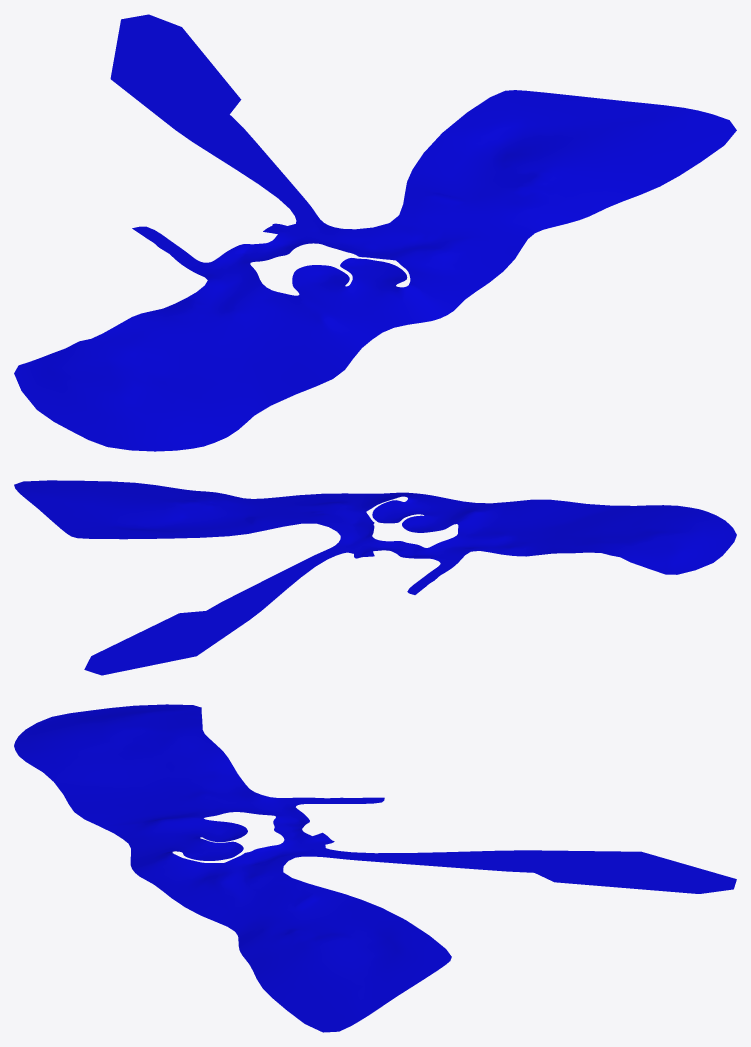
The picture shows the model from 3 angles, top to bottom: view 1: azimuth 30°, elevation 25°; view 2: azimuth 150°, elevation 25°; view 3: azimuth 270°, elevation 25°; orthographic projection. The views are drawn at different scales.
Visible parts, largest first — view 1: G:\FFXIV-MapTools\exports\k5t1\bg\ex4\03_kld_k5\twn\k5t1\bgp; view 2: G:\FFXIV-MapTools\exports\k5t1\bg\ex4\03_kld_k5\twn\k5t1\bgp; view 3: G:\FFXIV-MapTools\exports\k5t1\bg\ex4\03_kld_k5\twn\k5t1\bgp.
Part boxes in pixels (box(x1,y1,x2,y2)): G:\FFXIV-MapTools\exports\k5t1\bg\ex4\03_kld_k5\twn\k5t1\bgp: box(14, 14, 736, 451); G:\FFXIV-MapTools\exports\k5t1\bg\ex4\03_kld_k5\twn\k5t1\bgp: box(14, 480, 736, 675); G:\FFXIV-MapTools\exports\k5t1\bg\ex4\03_kld_k5\twn\k5t1\bgp: box(14, 704, 736, 1032).
Size of the model in its own units: 1446 by 41.46 by 1362.
